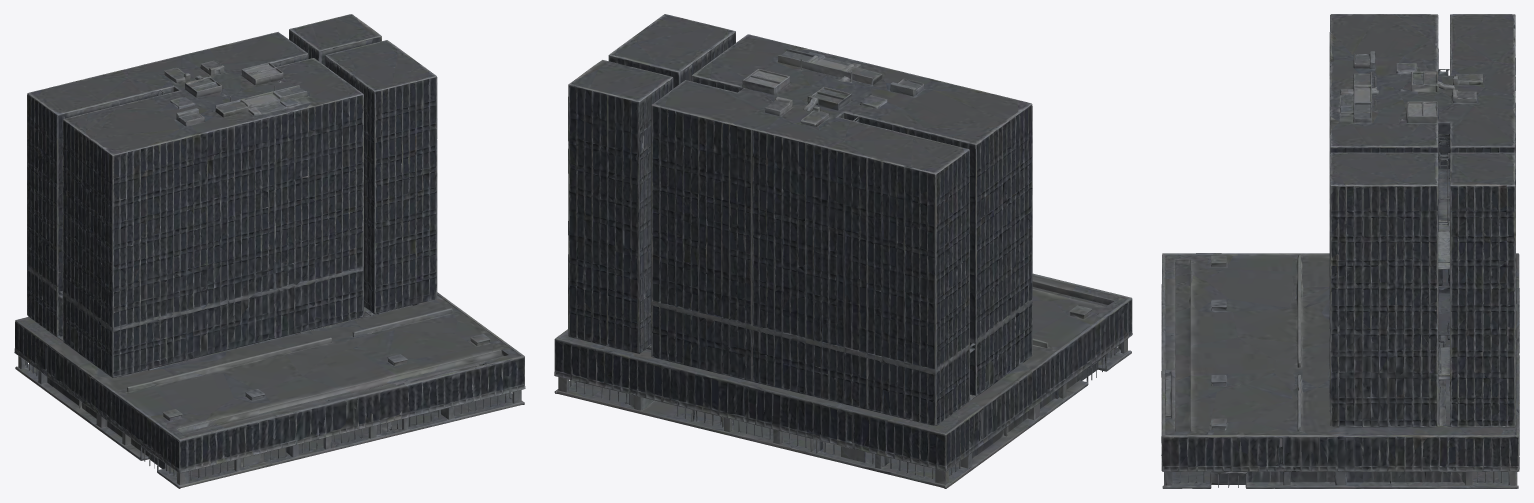
Rendered from 5720a620-38a1-44ef-b5bc-77b8174eac37.glb.
The picture shows the model from 3 angles, left to right: view 1: azimuth 30°, elevation 25°; view 2: azimuth 150°, elevation 25°; view 3: azimuth 270°, elevation 25°; orthographic projection. The views are drawn at different scales.
Size of the model in its own units: 1.9 by 1.49 by 1.57.
1 material, 1 textured.
